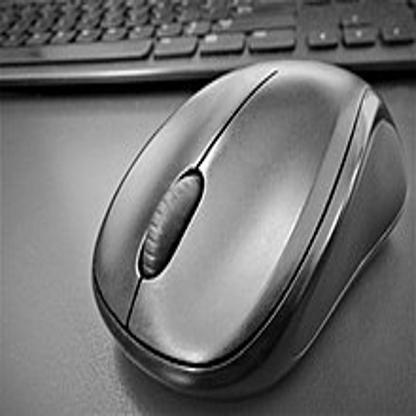not trash: (91, 58, 404, 403), (0, 0, 416, 94)
